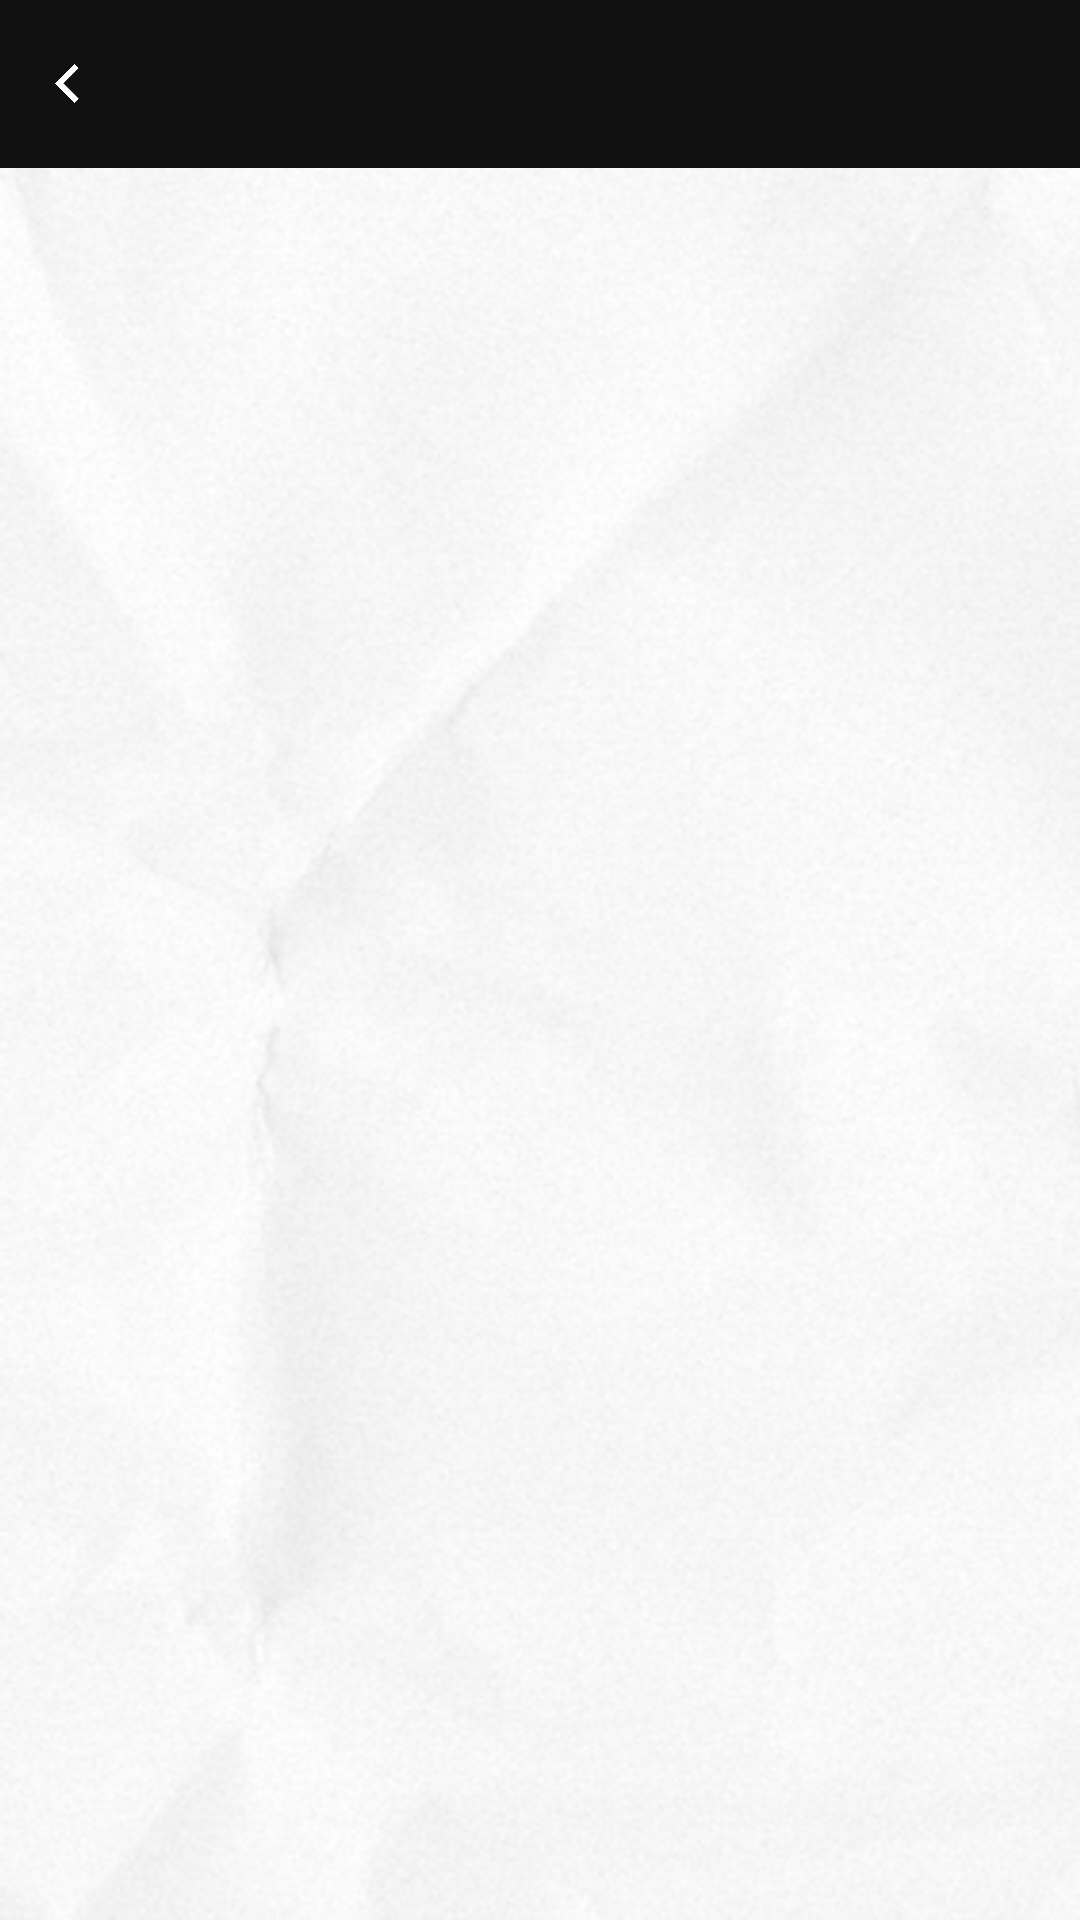

Locate icon controls on the screen. Image size 1080px x 1920px, boxes as (x1, y1, x2, y2).
back: (55, 64, 79, 103)
